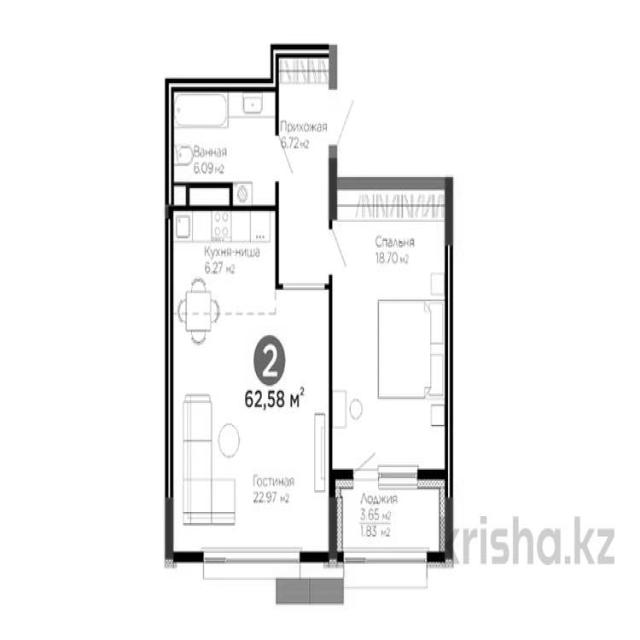balcony: (334, 481, 451, 561)
bathroom: (166, 82, 279, 208)
hallway: (275, 48, 331, 289)
living_room: (332, 176, 449, 482)
studio: (166, 207, 333, 561)
